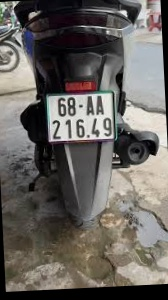Bien-so: (54, 97, 123, 150)
